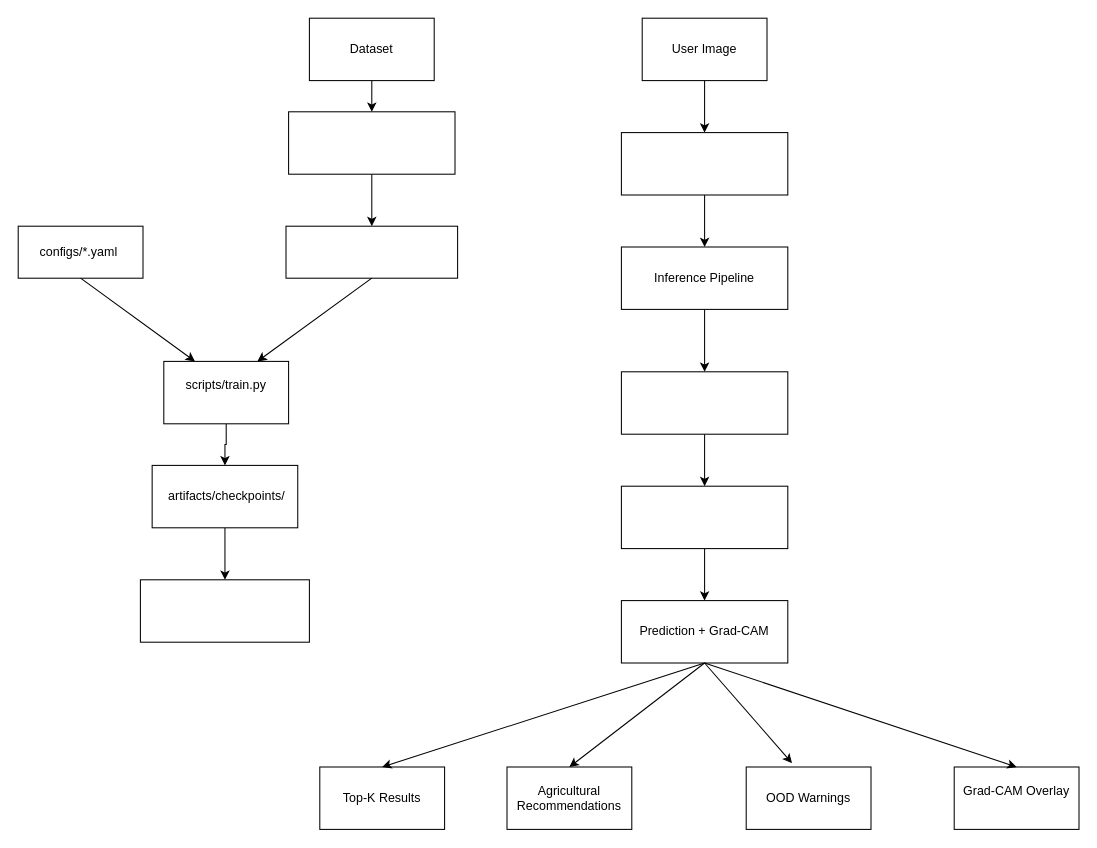
The diagram is 1097 pixels wide and 848 high, and some of its shapes have lost their labels. Each missing label, with the centre of its shape:
app.py / scripts/predict.py: point 704,163
Feature Extraction: point 704,517
Image Preprocessing: point 704,402
scripts/createSplits.py: point 371,142
scripts/evaluate.py - Metrics - Confusion Matrix: point 224,610
Train / Validation / Test CSV: point 371,251
